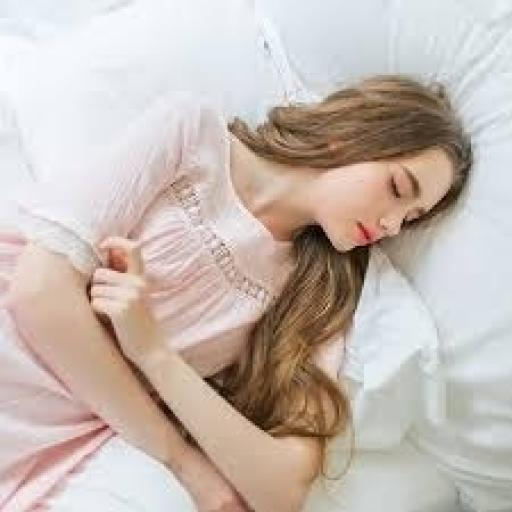sleeping: (0, 70, 476, 510)
